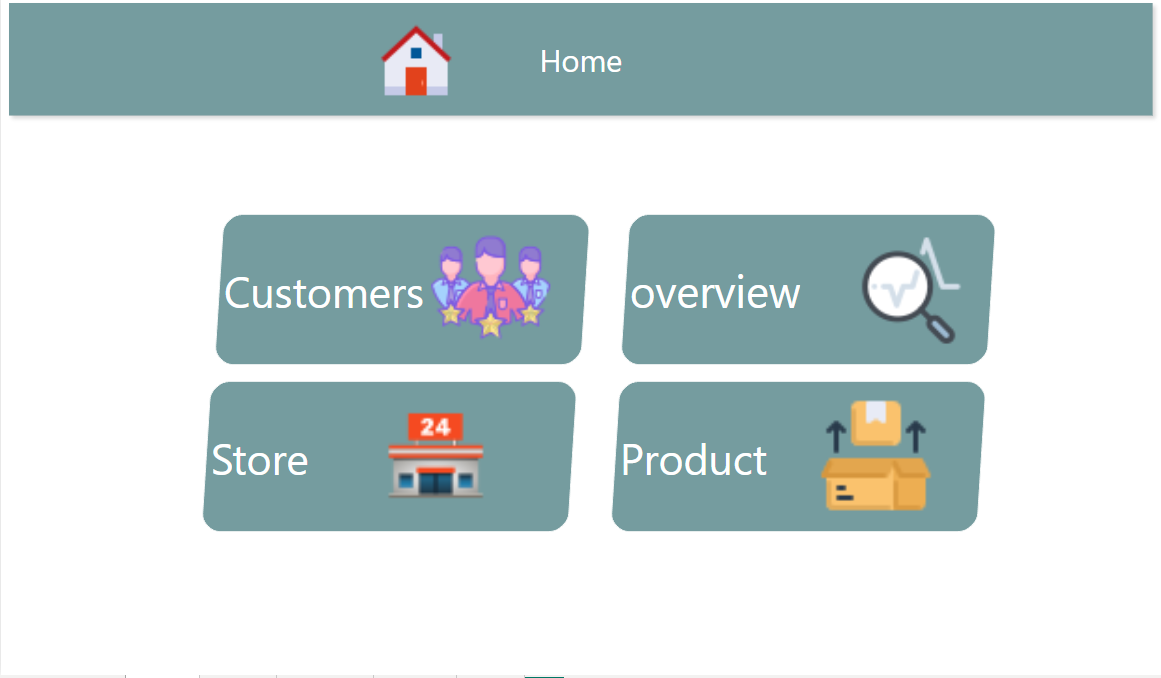

This screenshot's page, from the dashboard's own definition file:
{"tool":"powerbi","page":{"name":"Home","canvas":[1450,850],"ordinal":0},"visuals":[{"type":"shape","box":[0,0,1449.6,160.8],"z":0},{"type":"shape","box":[769.6,270.2,478.4,196.4],"z":1000},{"type":"image","box":[423,23.7,192.4,114.7],"z":2000},{"type":"shape","box":[757.8,478.4,478.4,196.4],"z":3000},{"type":"shape","box":[262.2,270.2,478.4,196.4],"z":4000},{"type":"shape","box":[246.4,478.4,478.4,196.4],"z":5000},{"type":"image","box":[498.1,286,226.7,159.5],"z":6000},{"type":"image","box":[976.5,496.8,234.6,159.5],"z":7000},{"type":"image","box":[390.1,496.8,307.1,159.5],"z":8000},{"type":"image","box":[1020,288.6,228,159.5],"z":9000}]}

Visuals, with their boxes in screenshot pixels (x1, y1, x2, y2), scaled from the page's 1450x850 canvas onto the 1161x678 screenshot:
shape: {"x1": 0, "y1": 0, "x2": 1160, "y2": 128}
shape: {"x1": 616, "y1": 216, "x2": 999, "y2": 372}
image: {"x1": 339, "y1": 19, "x2": 493, "y2": 110}
shape: {"x1": 607, "y1": 382, "x2": 990, "y2": 538}
shape: {"x1": 210, "y1": 216, "x2": 593, "y2": 372}
shape: {"x1": 197, "y1": 382, "x2": 580, "y2": 538}
image: {"x1": 399, "y1": 228, "x2": 580, "y2": 355}
image: {"x1": 782, "y1": 396, "x2": 970, "y2": 523}
image: {"x1": 312, "y1": 396, "x2": 558, "y2": 523}
image: {"x1": 817, "y1": 230, "x2": 999, "y2": 357}
